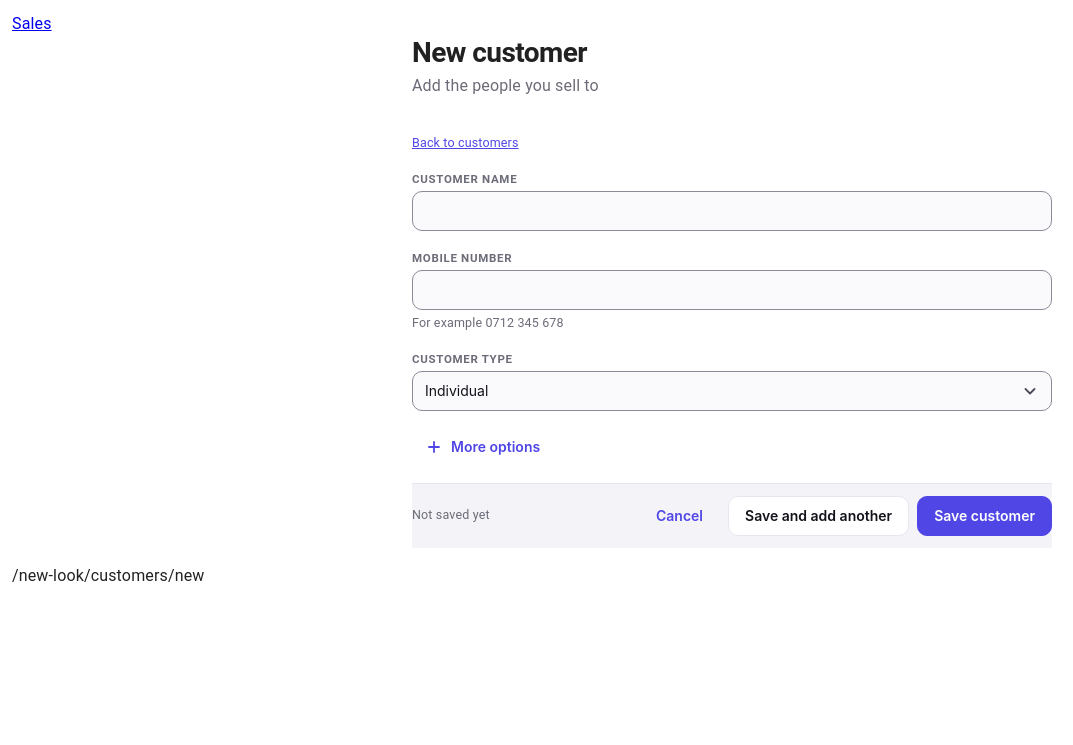
Test: what must be filled in › a name and a mobile number are required: the errors show beside the fields and in the summary
The image size is (1073, 745).
Click the button "Save customer" at x=985, y=516, box [917, 496, 1052, 536]
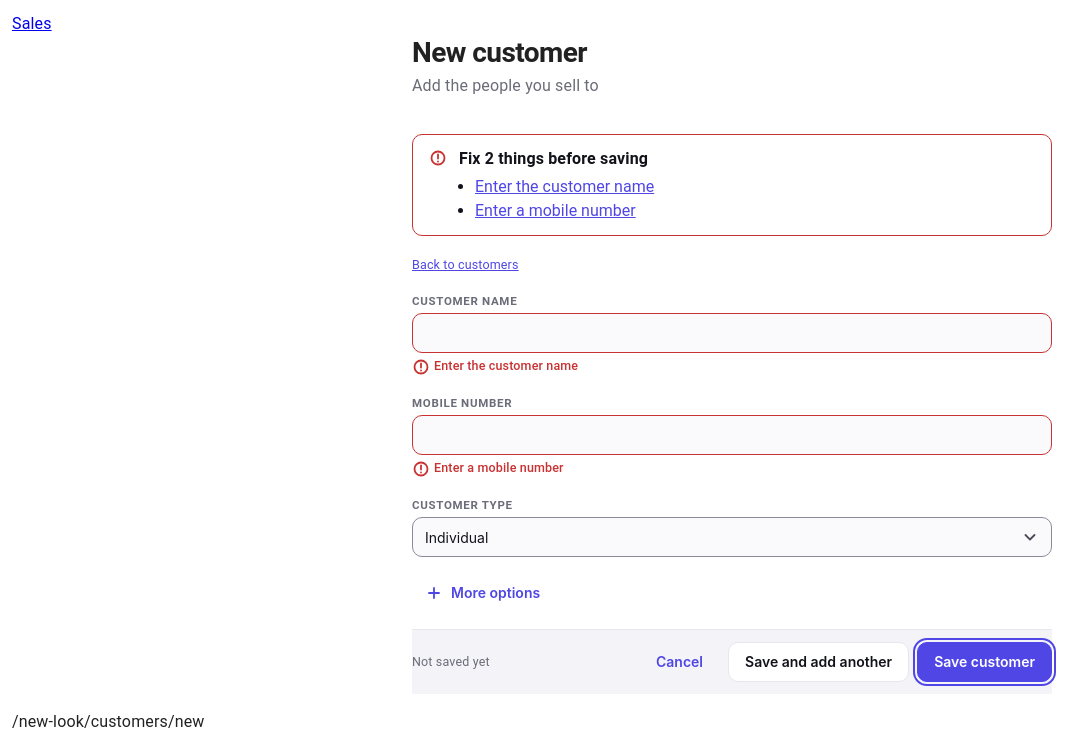
Expected: the message "Fix 2 things before saving Enter the customer name Enter a mobile number" is shown, [412, 134, 1052, 236]
Expected: the button "Enter the customer name" is shown, [475, 175, 654, 199]
Expected: the button "Enter a mobile number" is shown, [475, 199, 636, 223]
